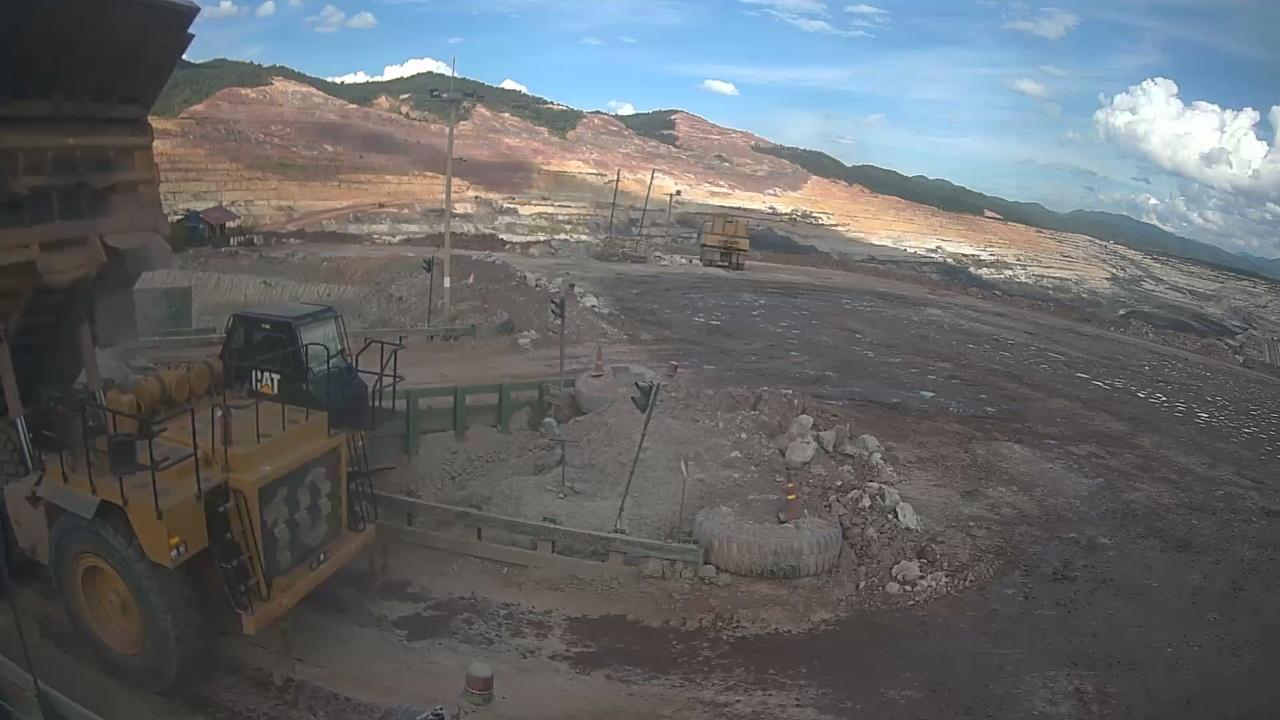dump_truck: (0, 0, 404, 702)
front_number: (262, 467, 347, 571)
